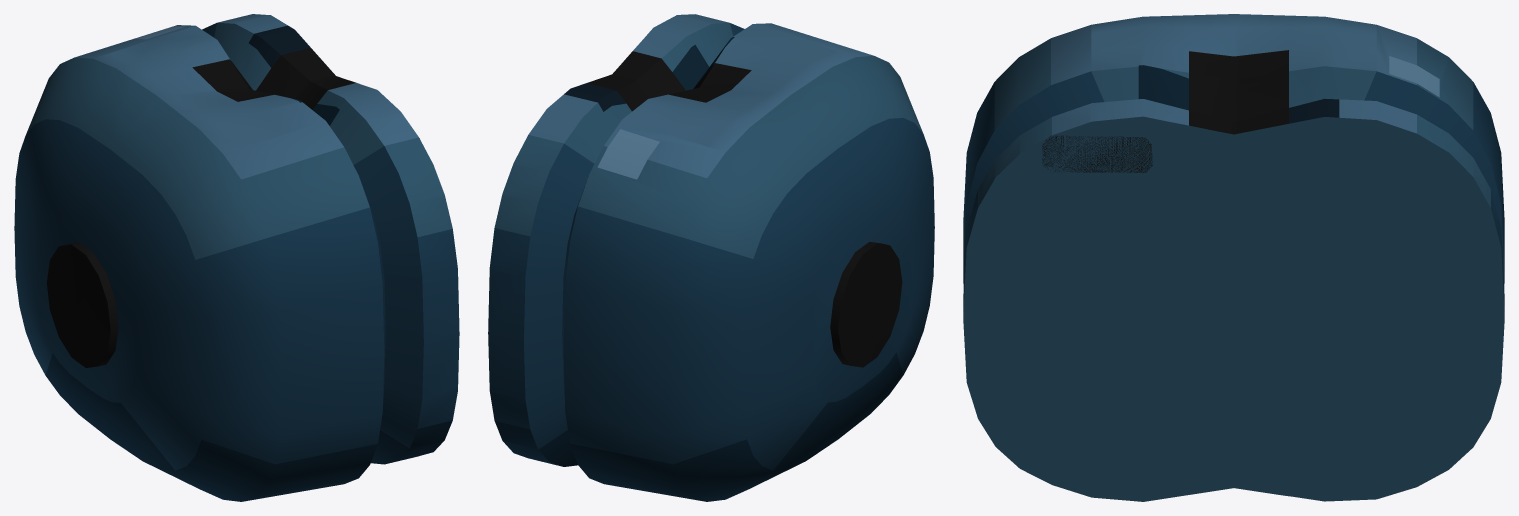
File: deli_cannon_l_dmg_muzzle.glb
3 views of the same model, side by side, from view 1: azimuth 30°, elevation 25°; view 2: azimuth 150°, elevation 25°; view 3: azimuth 270°, elevation 25° (orthographic). The views are drawn at different scales.
Visible parts, largest first — view 1: muzzle, bore; view 2: muzzle, bore; view 3: muzzle, port_hole.
Part boxes in pixels (left/top/right/bottom): muzzle: left=14, top=14, right=459, bottom=501; bore: left=47, top=242, right=118, bottom=367; muzzle: left=488, top=14, right=934, bottom=501; bore: left=830, top=241, right=902, bottom=367; muzzle: left=963, top=14, right=1504, bottom=501; port_hole: left=1042, top=135, right=1152, bottom=172.
Bounding box in the file's own units: 6.55 × 8.9 × 10.8.
